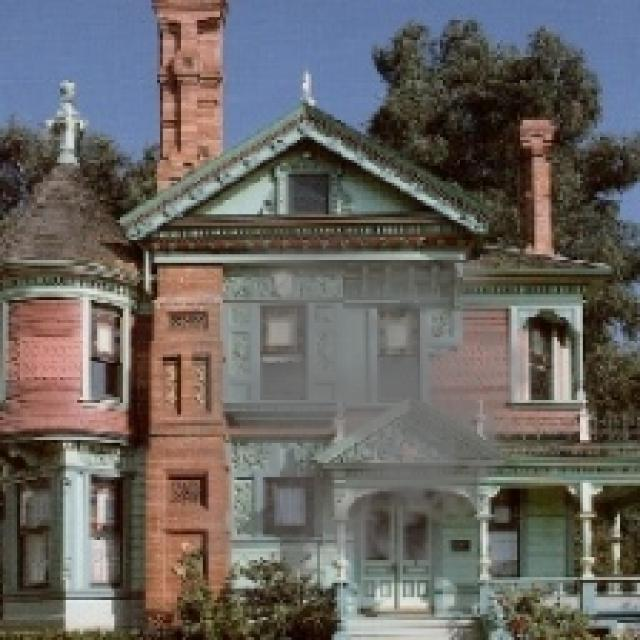smoke: (192, 232, 554, 592)
